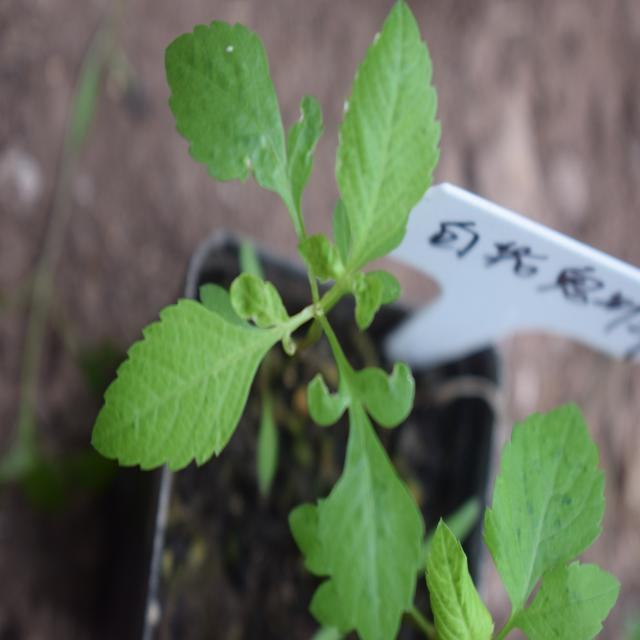Bidens pilosa: (93, 8, 457, 602)
